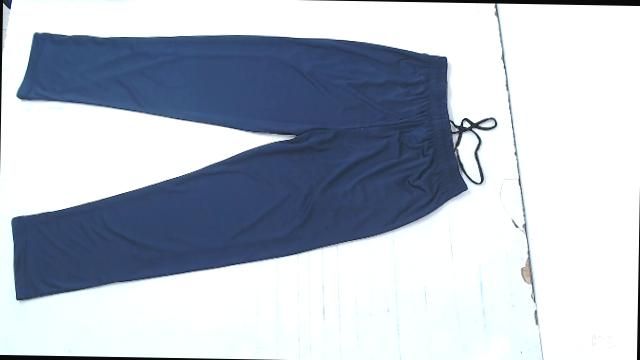new-garment: (12, 33, 467, 299)
